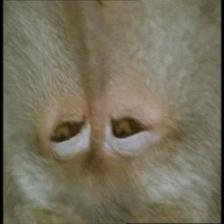monkey: (13, 1, 190, 199)
